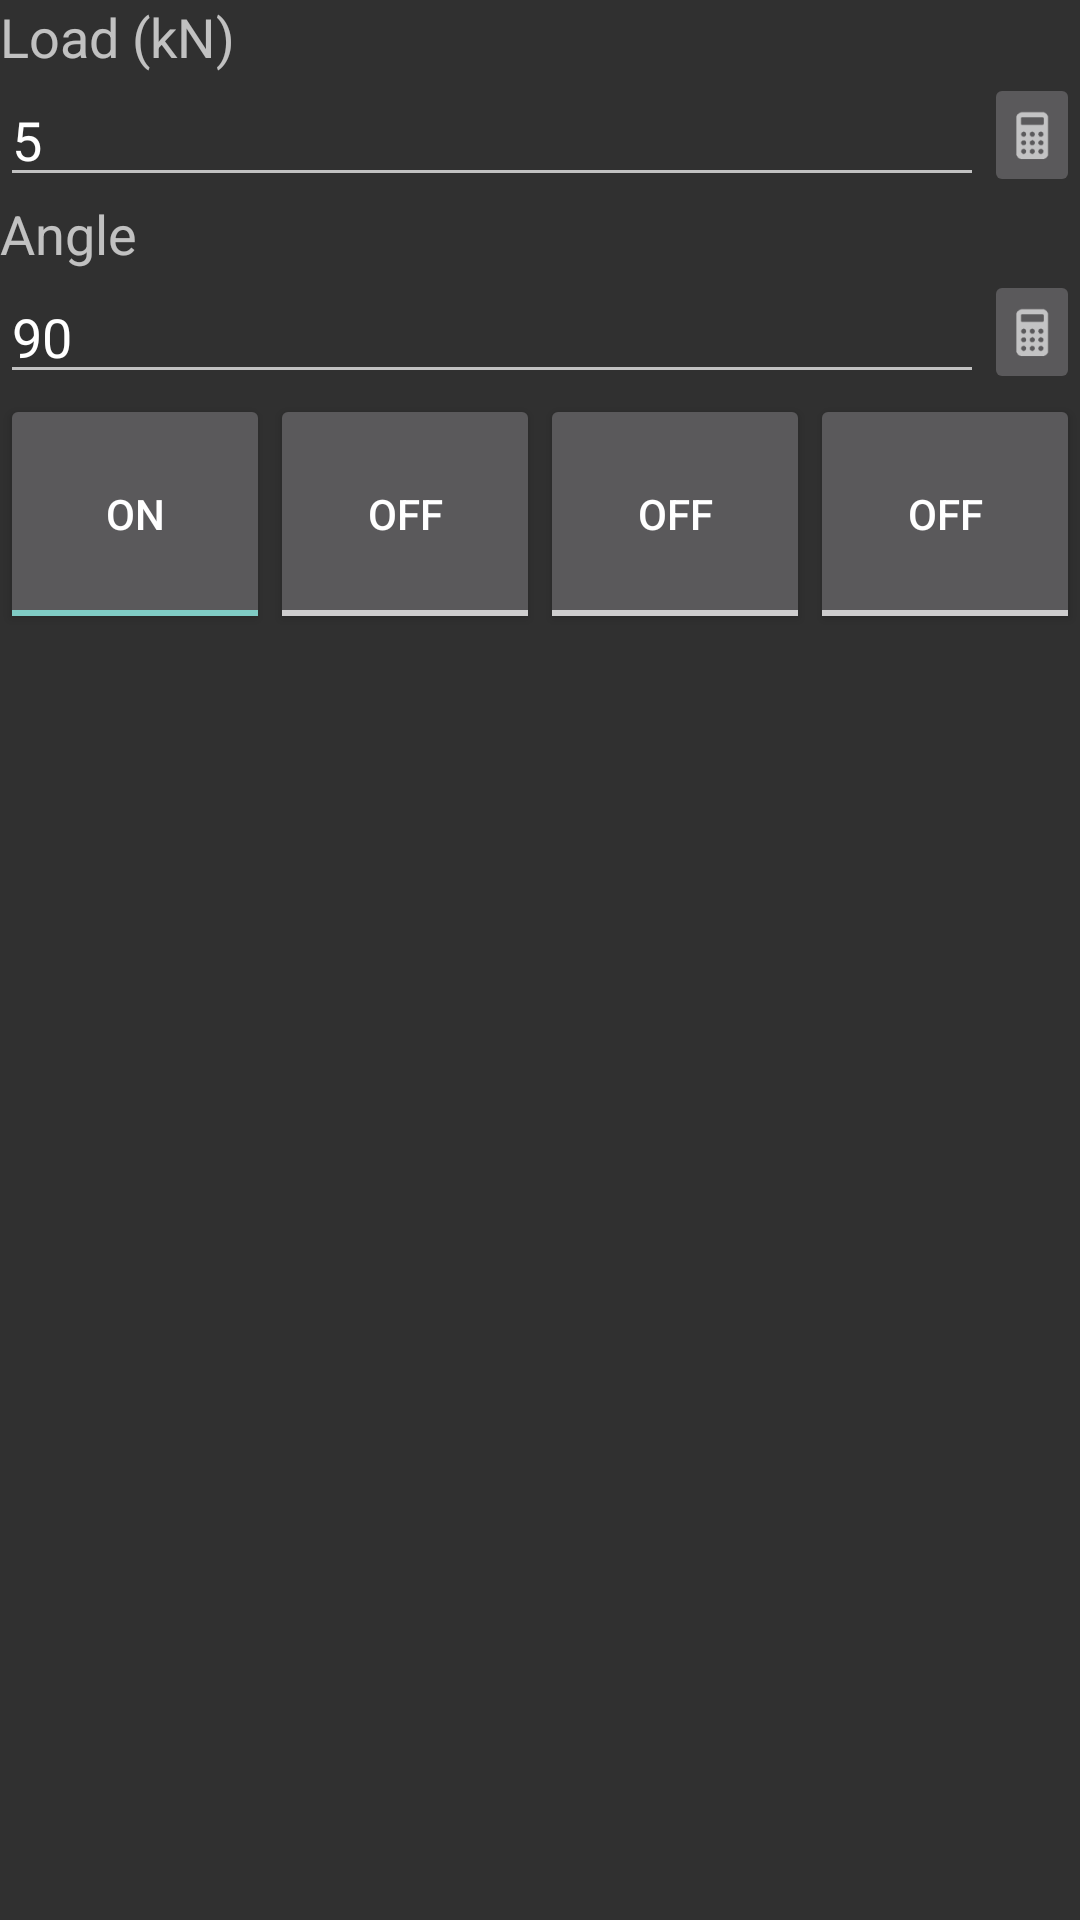

Icon click points for this 1080px×1920px phone screenshot, format [x,y]:
calculator: [1032,135], [1032,332]
